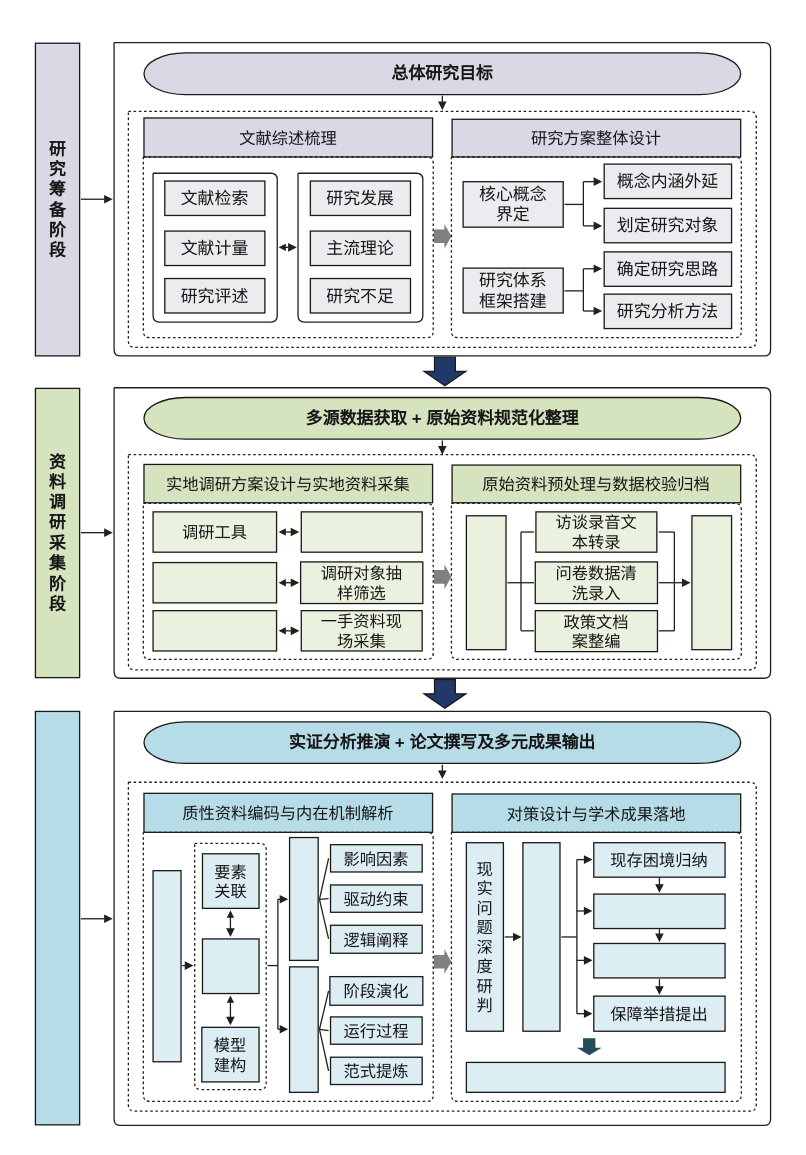
Some shapes in this 806 by 1155 pixel diagram are drawn without their labels. The shapes that lost their labels are listed below. From the top down, each one's centre as x and y in pixels, then its label:
At pixel 361 531: "问卷 / 访谈 提纲修订".
At pixel 214 582: "调研样本".
At pixel 485 582: "原 始 资 料 归 集".
At pixel 711 582: "采 集 资 料 核 验".
At pixel 214 630: "实地调研".
At pixel 57 917: "数 据 分 析 与 成 果 产 出 阶 段".
At pixel 303 899: "内 在 机 理 解 构".
At pixel 659 911: "深层诱因分析".
At pixel 541 937: "成 因 根 源 分 层 剖 析".
At pixel 166 966: "作 用 过 程 推 演".
At pixel 230 966: "路径 拆解".
At pixel 659 960: "适配性优化".
At pixel 303 1029: "系 统 运 行 剖 析".
At pixel 595 1077: "学位论文定稿撰写".
